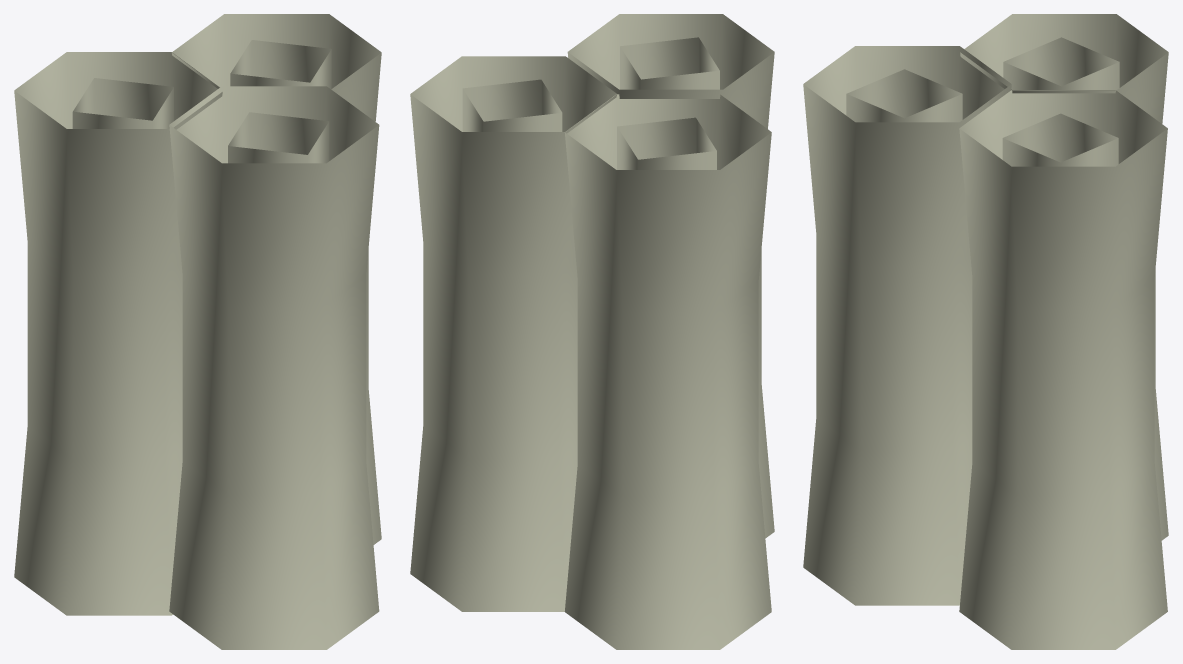
3 views of the same model, side by side, from view 1: azimuth 30°, elevation 25°; view 2: azimuth 150°, elevation 25°; view 3: azimuth 270°, elevation 25° (orthographic).
Visible parts, largest first — view 1: Object119; view 2: Object119; view 3: Object119.
Part boxes in pixels (x1,y1,x2,y2): Object119: [14, 14, 381, 649]; Object119: [410, 14, 774, 649]; Object119: [803, 14, 1168, 649].
Size of the model in its own units: 13801 by 20610 by 13980.
